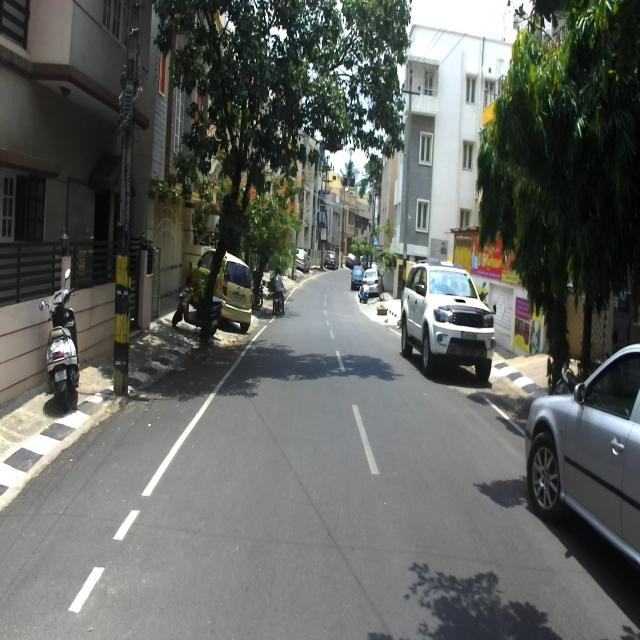car ahead at: (527, 338, 640, 583), (402, 259, 497, 381)
electric pole ahead at: (106, 0, 151, 399)
motorcycle ahead at: (37, 268, 87, 412)
